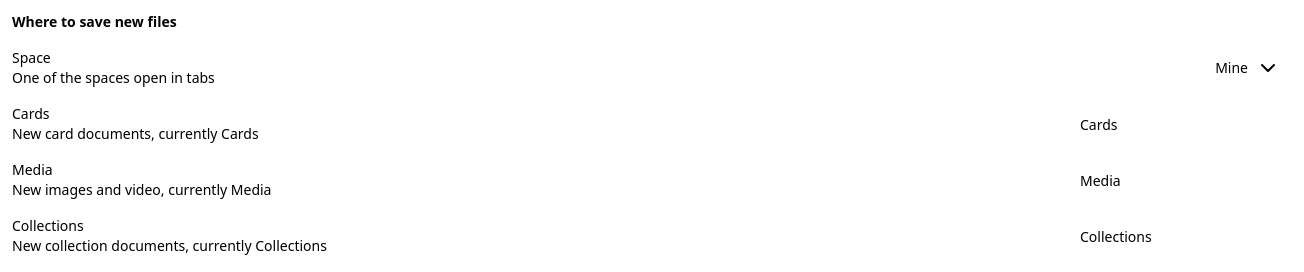
Scenario: LayoutSection › allows one destination to be root while the others stay configured
Clear the field named "Media" at (1180, 180), box x1=1068 y1=164 x2=1292 y2=196
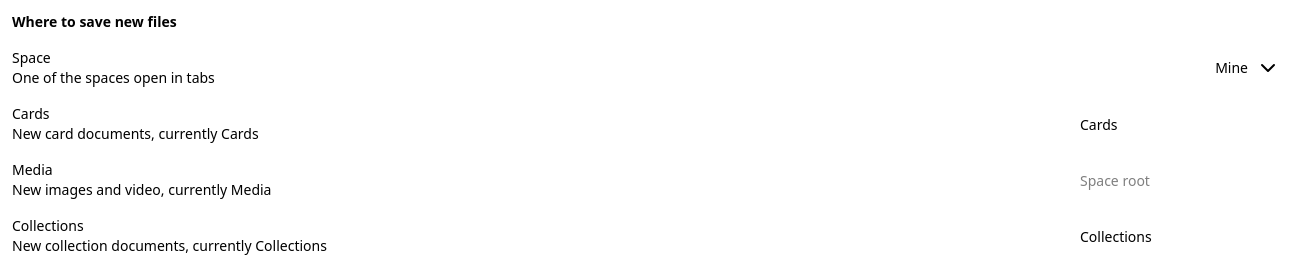
Press Tab
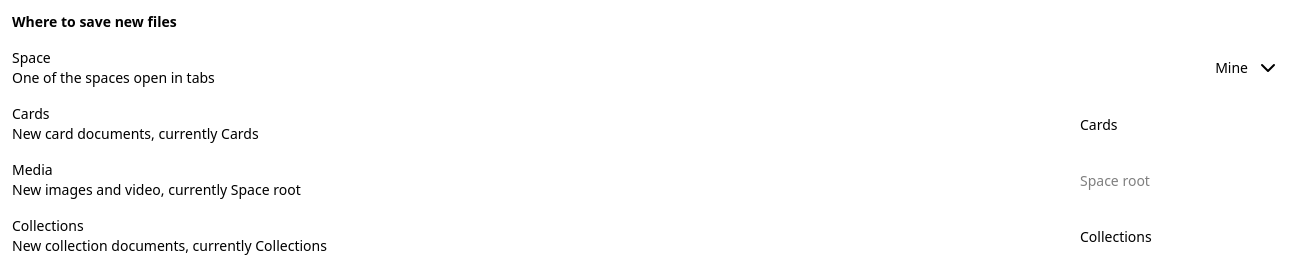
Now the text "New images and video, currently Space root" is shown, box x1=12 y1=180 x2=301 y2=200
